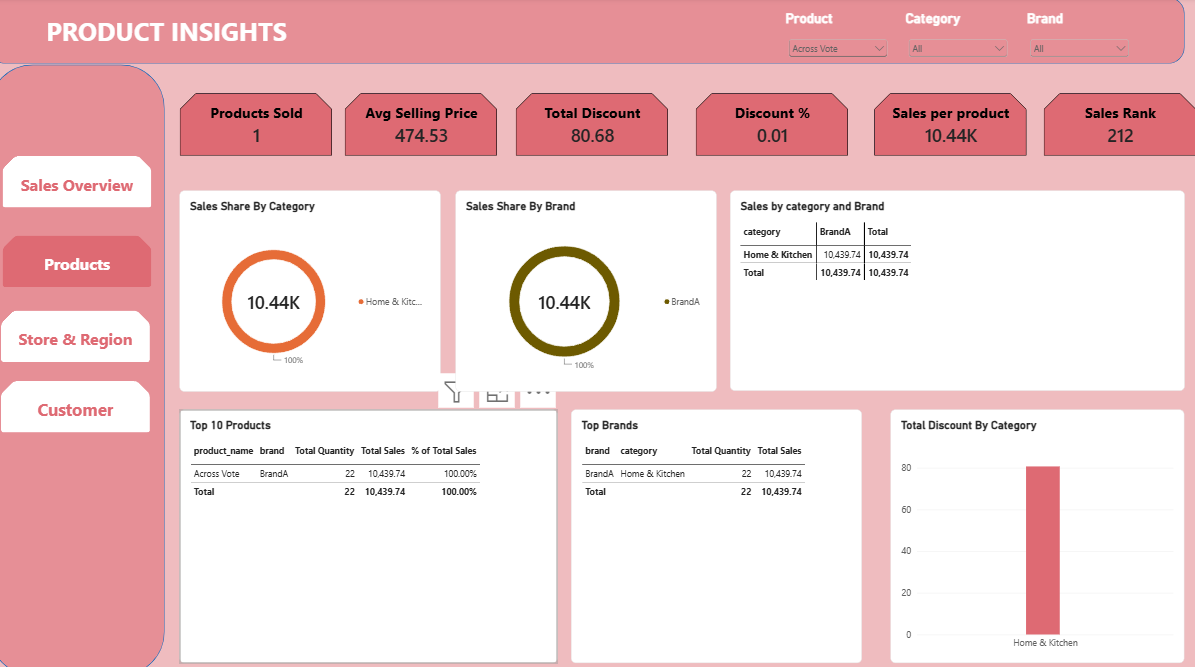

This screenshot's page, from the dashboard's own definition file:
{"tool":"powerbi","page":{"name":"Products","canvas":[1920,1080],"ordinal":1},"visuals":[{"type":"shape","box":[0,0,1901.8,106.3],"z":0},{"type":"actionButton","box":[0,12.2,565.1,85.1],"z":1},{"type":"shape","box":[0,106.3,279.5,972.2],"z":2},{"type":"actionButton","box":[21.3,252.2,237,82],"z":3},{"type":"actionButton","box":[21.3,379.7,237,82],"z":4},{"type":"actionButton","box":[18.2,498.2,237,82],"z":5},{"type":"actionButton","box":[18.2,610.6,237,82],"z":6},{"type":"donutChart","title":" Sales Share By Category","fields":{"Category":["sales_warehouse dim_product.category"],"Y":["calculation table.Total Sales"]},"box":[303,307.8,415.1,319.7],"z":7},{"type":"pivotTable","title":"Sales by category and Brand","fields":{"Columns":["sales_warehouse dim_product.brand"],"Rows":["sales_warehouse dim_product.category"],"Values":["calculation table.Total Sales"]},"box":[1178.7,306.8,723,319],"z":9},{"type":"tableEx","title":"Top 10 Products","fields":{"Values":["sales_warehouse dim_product.product_name","sales_warehouse dim_product.brand","calculation table.Total Quantity","calculation table.Total Sales","calculation table.% of Total Sales"]},"box":[303,656.1,601.3,403.2],"z":10},{"type":"tableEx","title":"Top Brands","fields":{"Values":["sales_warehouse dim_product.brand","sales_warehouse dim_product.category","calculation table.Total Quantity","calculation table.Total Sales"]},"box":[925.7,656.1,462.9,403.2],"z":11},{"type":"cardVisual","fields":{"Data":["calculation table.Products Sold"]},"box":[303.8,151.9,243,100.3],"z":12},{"type":"cardVisual","fields":{"Data":["calculation table.Avg Selling Price"]},"box":[565.5,152.7,243,100.3],"z":13},{"type":"cardVisual","fields":{"Data":["calculation table.Total Discount"]},"box":[837.5,152.7,243,100.3],"z":14},{"type":"cardVisual","fields":{"Data":["calculation table.Discount %"]},"box":[1123.8,152.7,243,100.3],"z":15},{"type":"cardVisual","fields":{"Data":["calculation table.Sales per product"]},"box":[1407.7,152.7,243,100.3],"z":16},{"type":"slicer","title":"Category","fields":{"Values":["sales_warehouse dim_product.category"]},"box":[1457.8,21.5,167.1,75.9],"z":18},{"type":"slicer","title":"Brand","fields":{"Values":["sales_warehouse dim_product.brand"]},"box":[1651.1,21.5,167.1,75.9],"z":19},{"type":"donutChart","title":" Sales Share By Brand","fields":{"Category":["sales_warehouse dim_product.brand"],"Y":["calculation table.Total Sales"]},"box":[741.3,306.8,415.1,319.7],"z":20},{"type":"clusteredColumnChart","title":"Total Discount By Category","fields":{"Category":["sales_warehouse dim_product.category"],"Y":["calculation table.Total Discount"]},"box":[1433.9,656.1,467.6,403.2],"z":21},{"type":"cardVisual","fields":{"Data":["calculation table.Sales Rank"]},"box":[1677.3,152.7,243,100.3],"z":22},{"type":"slicer","title":"Product","fields":{"Values":["sales_warehouse dim_product.product_name"]},"box":[1266.9,21.5,167.1,75.9],"z":23}]}

Visuals, with their boxes in screenshot pixels (x1, y1, x2, y2), scaled from the page's 1920x1080 canvas onto the 1195x667 screenshot:
shape: {"x1": 0, "y1": 0, "x2": 1184, "y2": 66}
actionButton: {"x1": 0, "y1": 8, "x2": 352, "y2": 60}
shape: {"x1": 0, "y1": 66, "x2": 174, "y2": 666}
actionButton: {"x1": 13, "y1": 156, "x2": 161, "y2": 206}
actionButton: {"x1": 13, "y1": 234, "x2": 161, "y2": 285}
actionButton: {"x1": 11, "y1": 308, "x2": 159, "y2": 358}
actionButton: {"x1": 11, "y1": 377, "x2": 159, "y2": 428}
" Sales Share By Category" donutChart: {"x1": 189, "y1": 190, "x2": 447, "y2": 388}
"Sales by category and Brand" pivotTable: {"x1": 734, "y1": 189, "x2": 1184, "y2": 386}
"Top 10 Products" tableEx: {"x1": 189, "y1": 405, "x2": 563, "y2": 654}
"Top Brands" tableEx: {"x1": 576, "y1": 405, "x2": 864, "y2": 654}
cardVisual - calculation table.Products Sold: {"x1": 189, "y1": 94, "x2": 340, "y2": 156}
cardVisual - calculation table.Avg Selling Price: {"x1": 352, "y1": 94, "x2": 503, "y2": 156}
cardVisual - calculation table.Total Discount: {"x1": 521, "y1": 94, "x2": 672, "y2": 156}
cardVisual - calculation table.Discount %: {"x1": 699, "y1": 94, "x2": 851, "y2": 156}
cardVisual - calculation table.Sales per product: {"x1": 876, "y1": 94, "x2": 1027, "y2": 156}
"Category" slicer: {"x1": 907, "y1": 13, "x2": 1011, "y2": 60}
"Brand" slicer: {"x1": 1028, "y1": 13, "x2": 1132, "y2": 60}
" Sales Share By Brand" donutChart: {"x1": 461, "y1": 189, "x2": 720, "y2": 387}
"Total Discount By Category" clusteredColumnChart: {"x1": 892, "y1": 405, "x2": 1183, "y2": 654}
cardVisual - calculation table.Sales Rank: {"x1": 1044, "y1": 94, "x2": 1194, "y2": 156}
"Product" slicer: {"x1": 789, "y1": 13, "x2": 893, "y2": 60}
